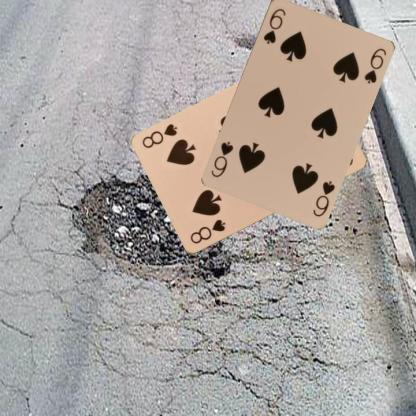6s: (310, 177, 336, 218), (260, 5, 286, 45)
8s: (187, 216, 227, 246)
